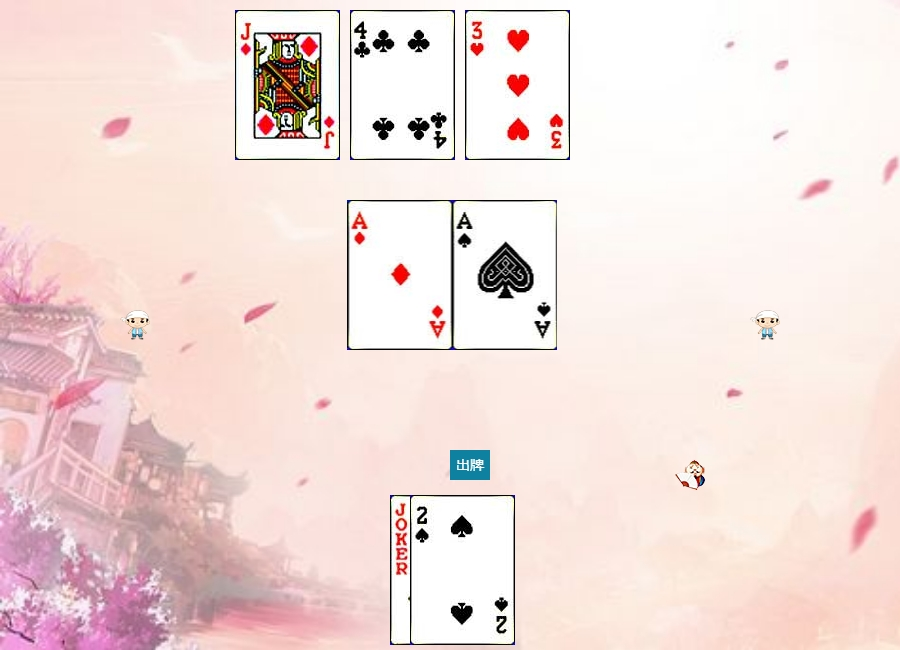11~1: (235, 10, 340, 160)
14~1: (348, 200, 453, 350)
14~4: (453, 200, 558, 350)
15~4: (410, 495, 515, 645)
18~4: (390, 495, 495, 645)
3~3: (465, 10, 570, 160)
4~2: (350, 10, 455, 160)
